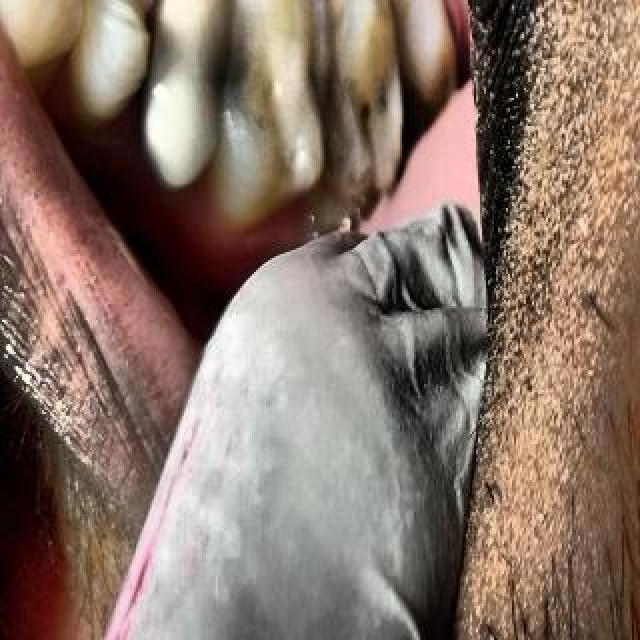cavities: (310, 30, 430, 200), (140, 0, 212, 166), (202, 0, 296, 104)
